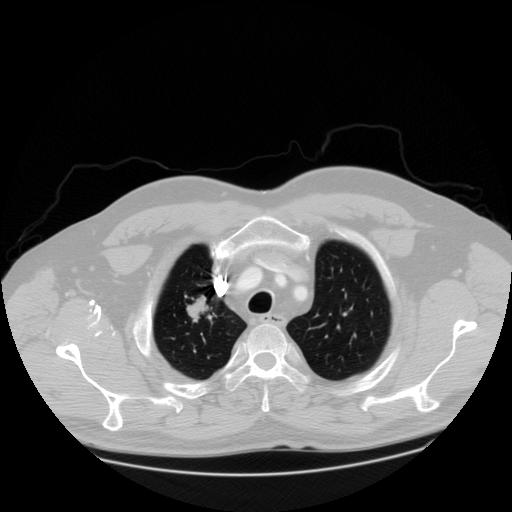nodule: (183, 295, 210, 322)
